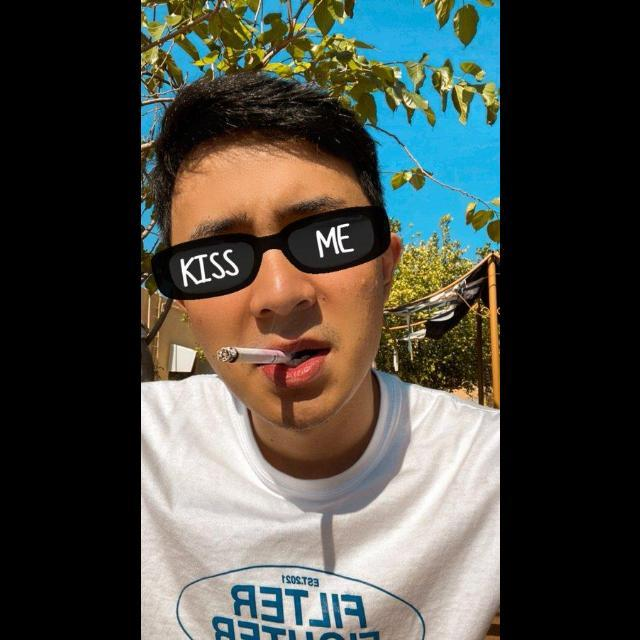rokok: (212, 342, 294, 372)
